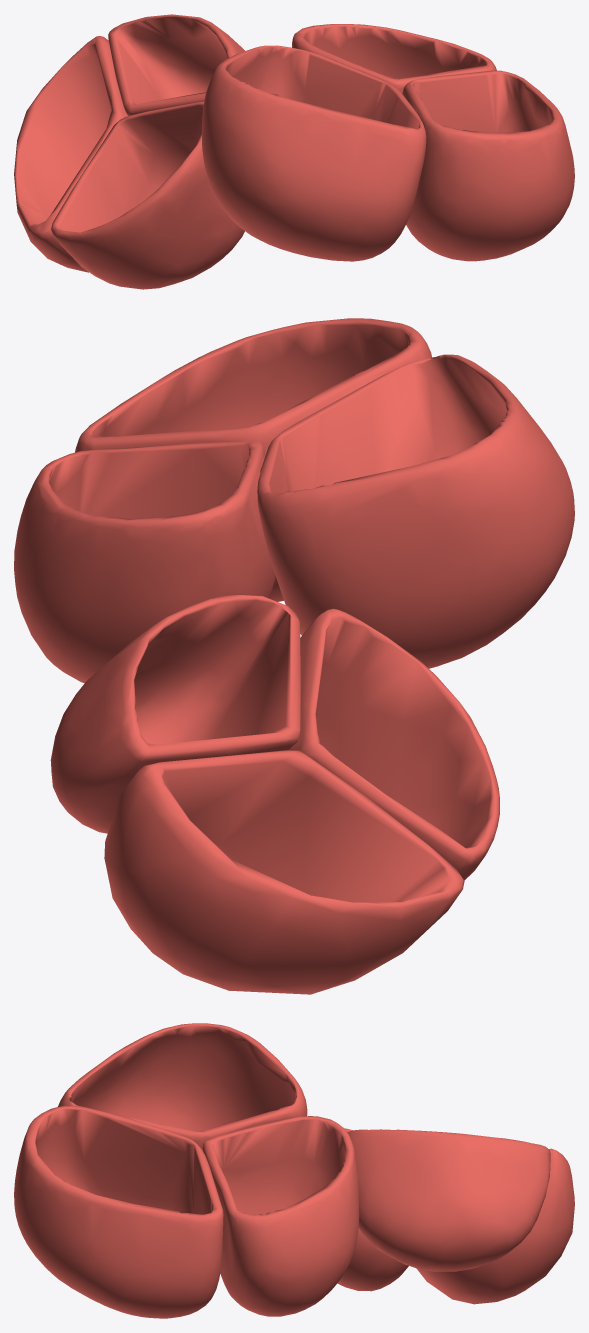
The model's file is pulmonaryvalve.gltf.
3 renders of one model, top to bottom at view 1: azimuth 30°, elevation 25°; view 2: azimuth 150°, elevation 25°; view 3: azimuth 270°, elevation 25°, orthographic. The views are drawn at different scales.
Parts seen in each view (by area): view 1: Right semilunar leaflet of pulmonary valve.008, Anterior semilunar leaflet of pulmonary valve.008, Right coronary leaflet.009, Non-coronary leaflet.009, Left coronary leaflet.009, Left semilunar leaflet of pulmonary valve.008; view 2: Right semilunar leaflet of pulmonary valve.008, Non-coronary leaflet.009, Left semilunar leaflet of pulmonary valve.008, Left coronary leaflet.009, Right coronary leaflet.009, Anterior semilunar leaflet of pulmonary valve.008; view 3: Anterior semilunar leaflet of pulmonary valve.008, Left semilunar leaflet of pulmonary valve.008, Left coronary leaflet.009, Right semilunar leaflet of pulmonary valve.008, Non-coronary leaflet.009, Right coronary leaflet.009.
Part boxes in pixels (x1,y1,x2,y2): Right semilunar leaflet of pulmonary valve.008: [202, 45, 426, 261]; Anterior semilunar leaflet of pulmonary valve.008: [402, 70, 574, 261]; Right coronary leaflet.009: [51, 101, 244, 289]; Non-coronary leaflet.009: [14, 36, 127, 272]; Left coronary leaflet.009: [108, 14, 244, 115]; Left semilunar leaflet of pulmonary valve.008: [292, 24, 496, 93]; Right semilunar leaflet of pulmonary valve.008: [257, 354, 574, 668]; Non-coronary leaflet.009: [104, 750, 464, 994]; Left semilunar leaflet of pulmonary valve.008: [14, 440, 275, 683]; Left coronary leaflet.009: [50, 595, 300, 833]; Right coronary leaflet.009: [289, 608, 499, 880]; Anterior semilunar leaflet of pulmonary valve.008: [75, 318, 432, 601]; Anterior semilunar leaflet of pulmonary valve.008: [14, 1106, 223, 1318]; Left semilunar leaflet of pulmonary valve.008: [202, 1116, 359, 1316]; Left coronary leaflet.009: [347, 1129, 550, 1271]; Right semilunar leaflet of pulmonary valve.008: [58, 1023, 307, 1149]; Non-coronary leaflet.009: [416, 1148, 574, 1304]; Right coronary leaflet.009: [337, 1128, 408, 1291].
Size of the model in its own units: 1.24 by 0.8834 by 1.67.
